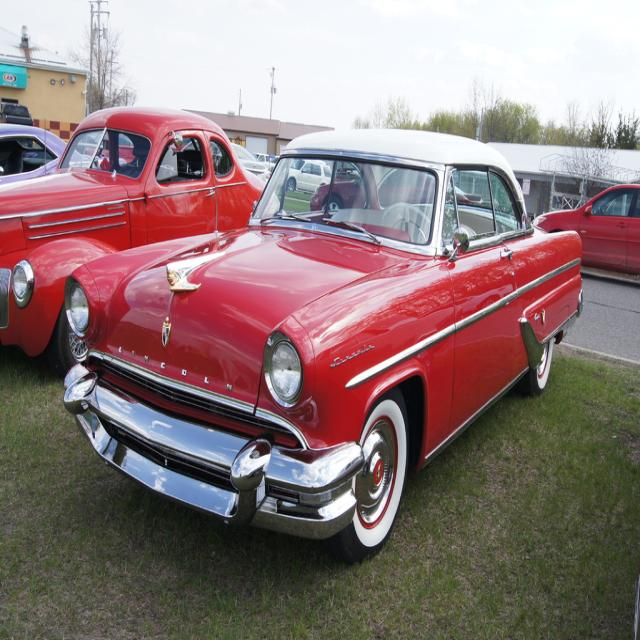car: (48, 134, 583, 561)
